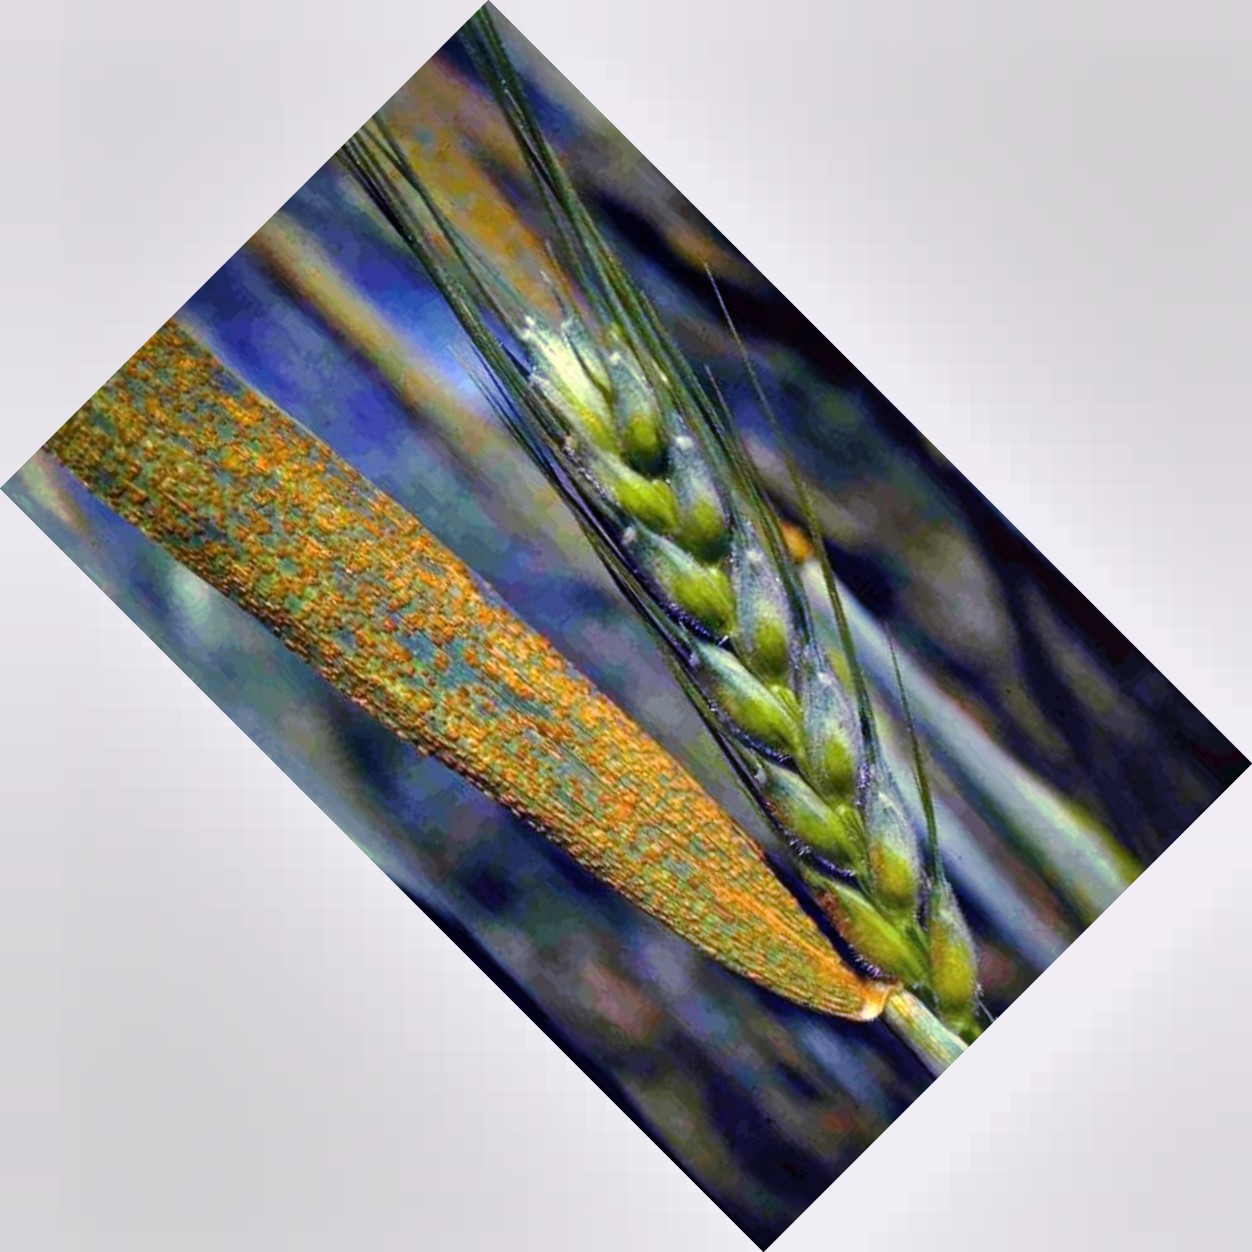Leaf Rust: (79, 354, 809, 968)
